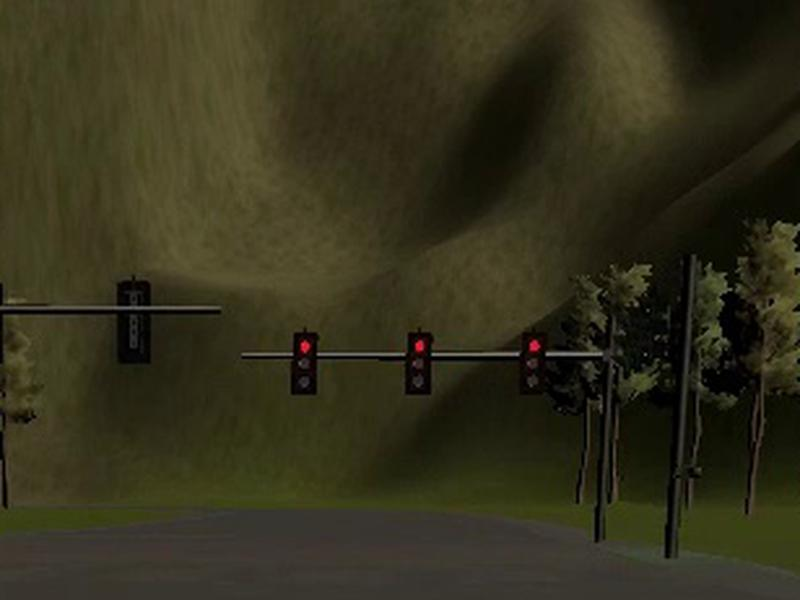Red: (288, 331, 319, 397), (405, 332, 435, 393), (521, 330, 548, 393)
